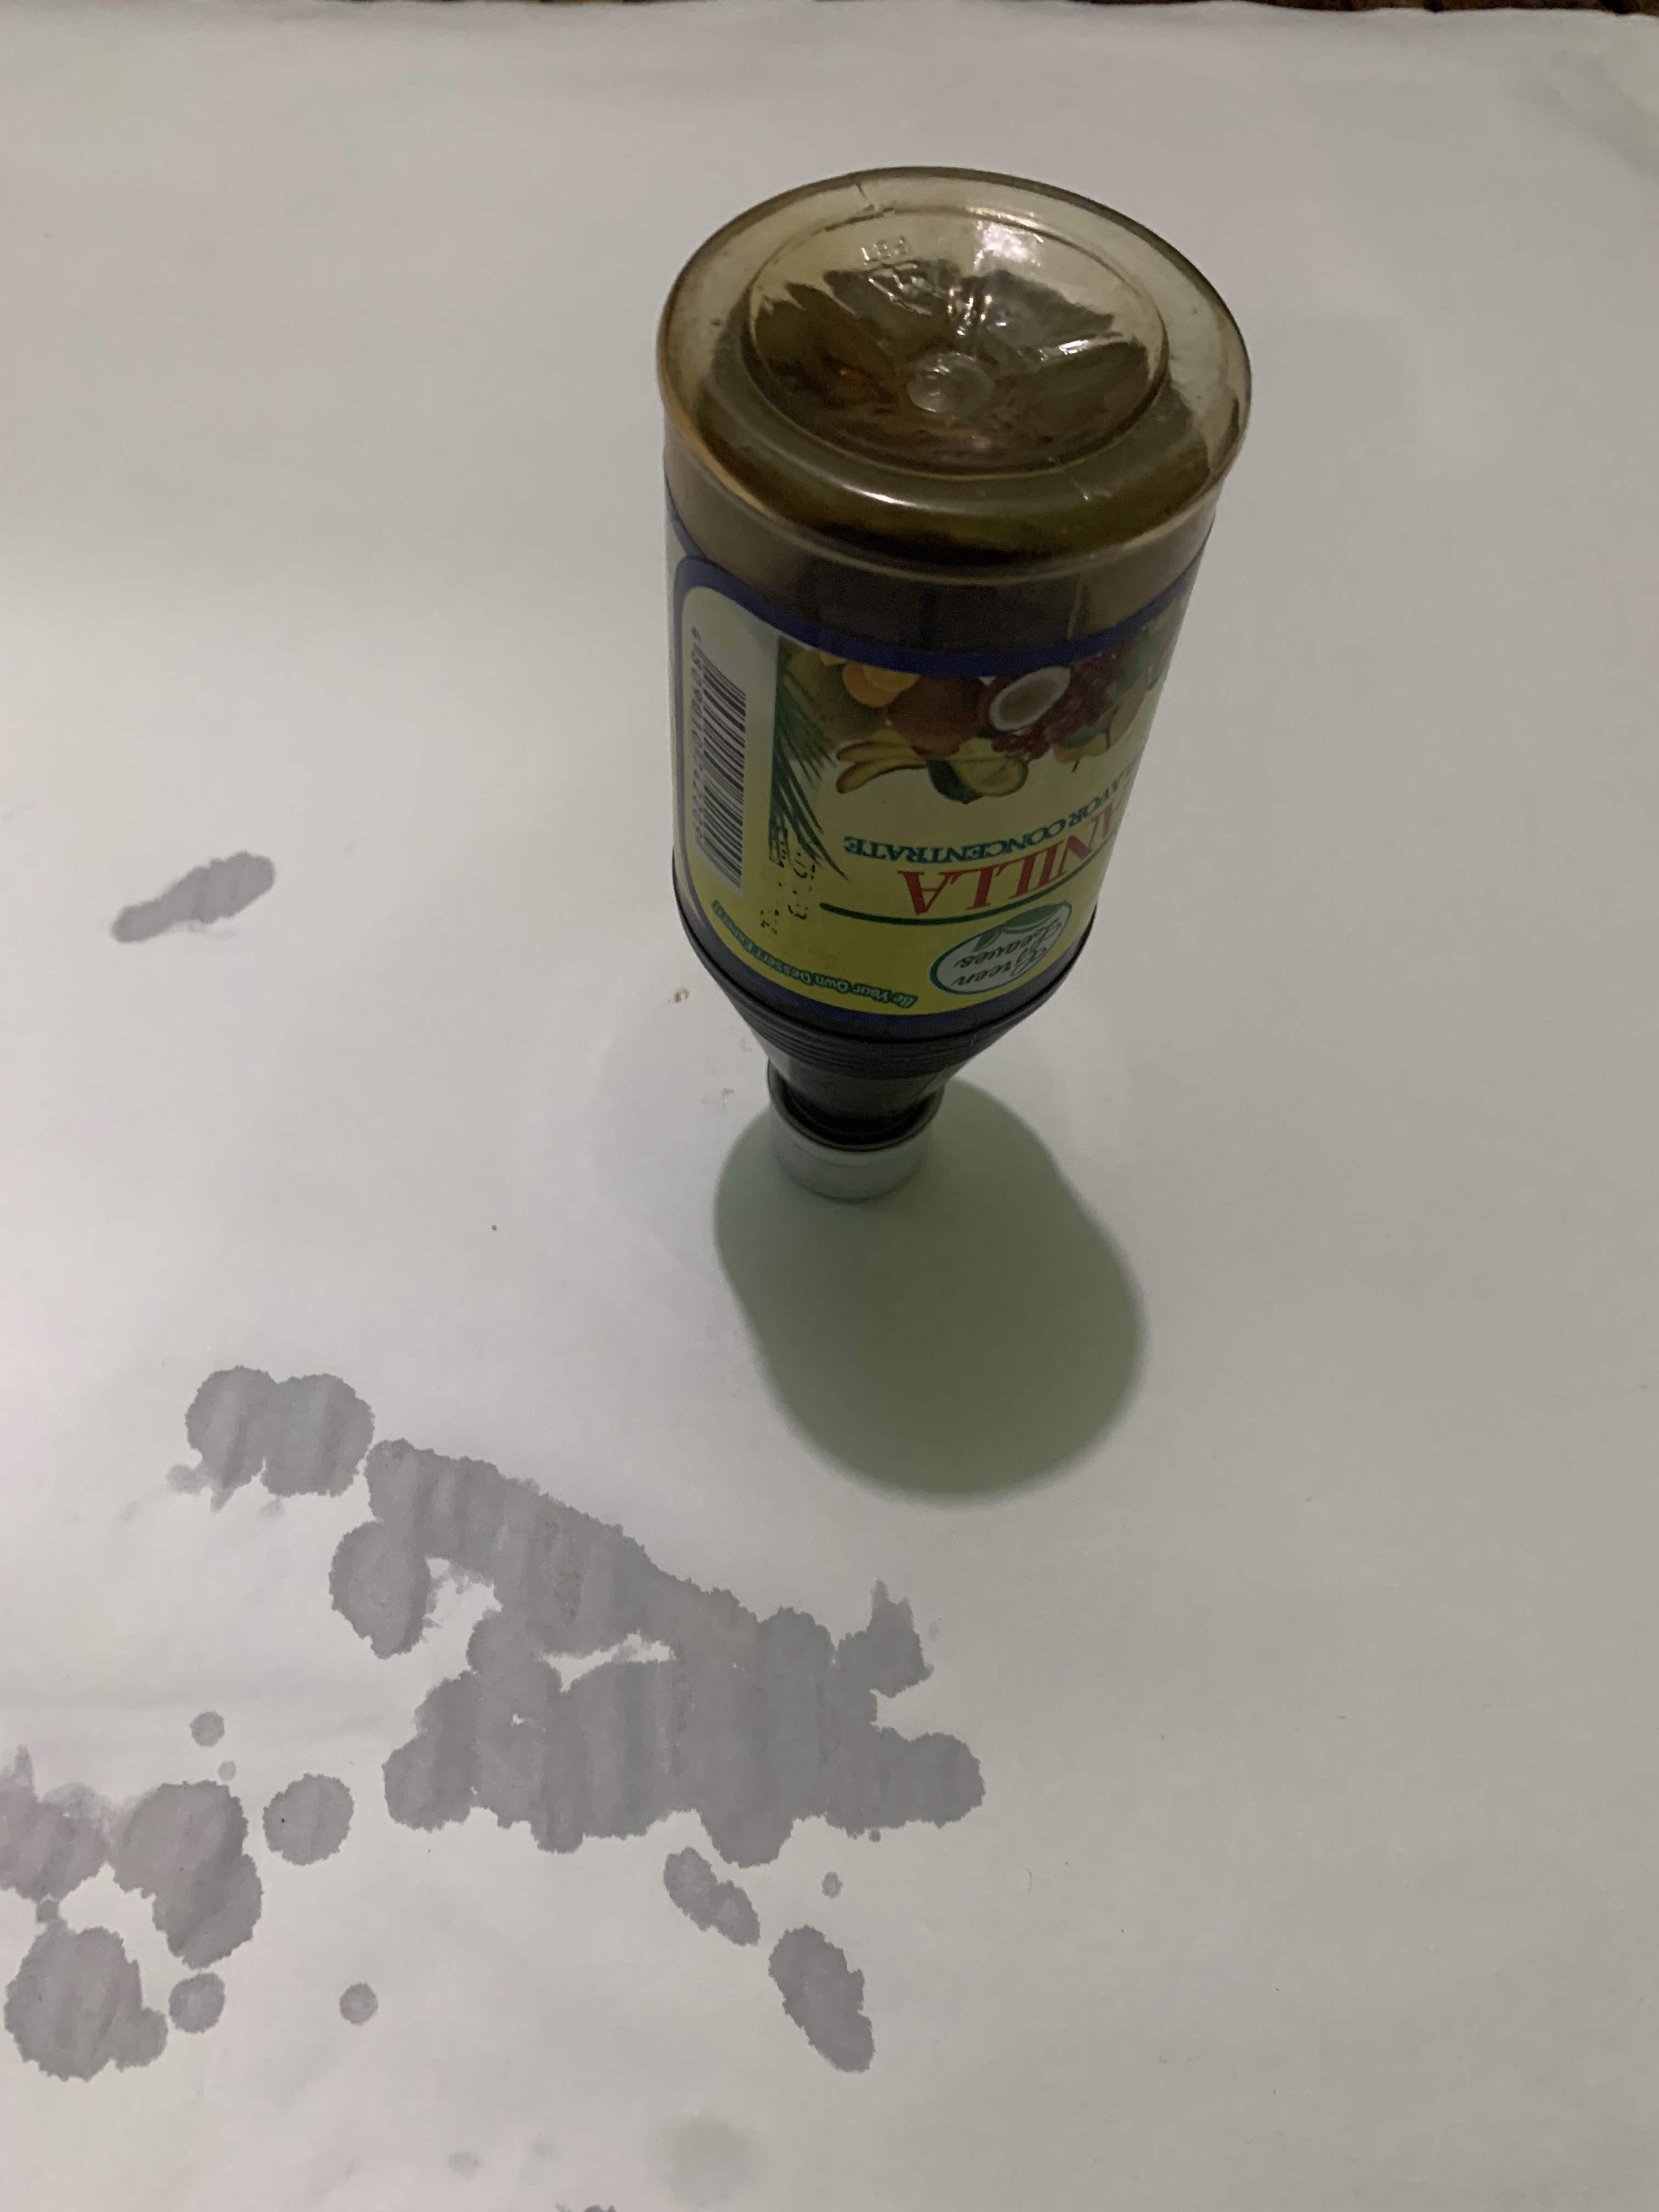bottle: (0, 148, 423, 1207)
